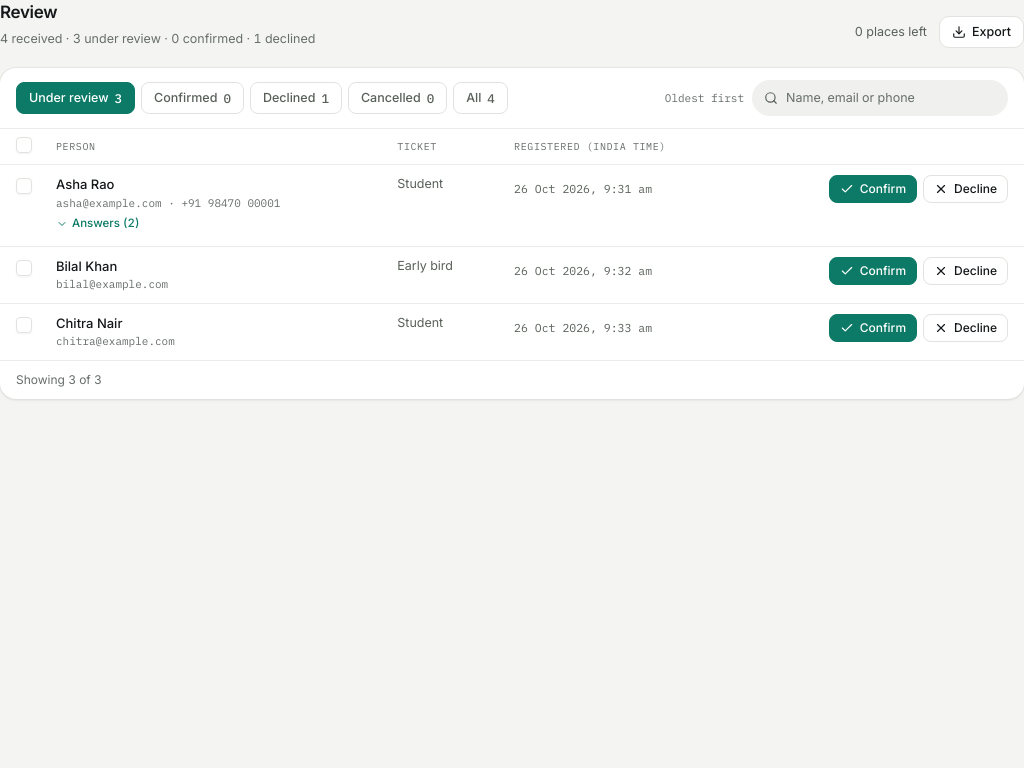
Test case: deciding › won't confirm anyone when no place is left
Expected: the text "0 places left" is shown, x1=855 y1=23 x2=927 y2=42
What coordinates should you click on to do the following:
click the checkbox named "Select Asha Rao"
I would click on:
 (24, 186)
Its box is x1=16 y1=178 x2=32 y2=194.
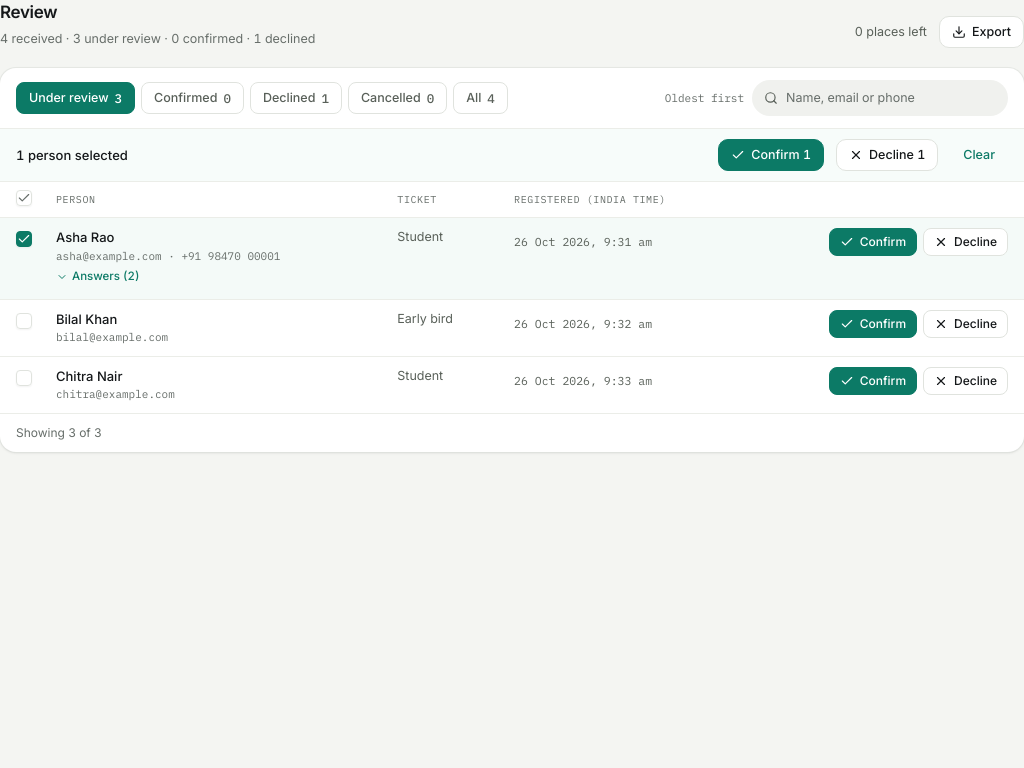
What coordinates should you click on to do the following:
click the button "Confirm 1"
I would click on:
 (771, 155)
Its box is x1=718 y1=139 x2=824 y2=171.
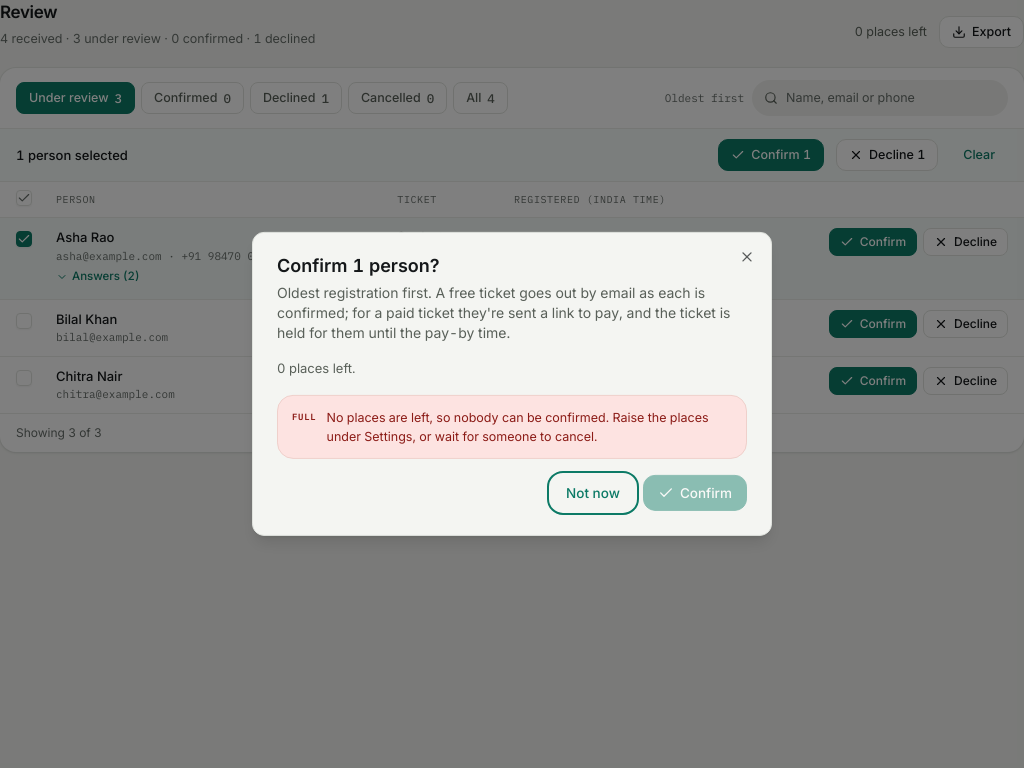
Expected: the text "No places are left, so nobody can be confirmed" is shown, x1=326 y1=409 x2=708 y2=444
Expected: the button "Confirm" is disabled, x1=643 y1=475 x2=747 y2=511
